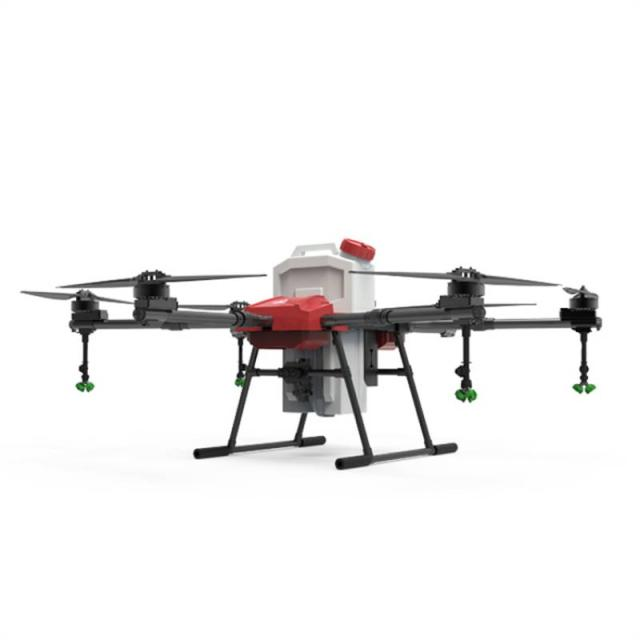drone: (0, 219, 640, 487)
